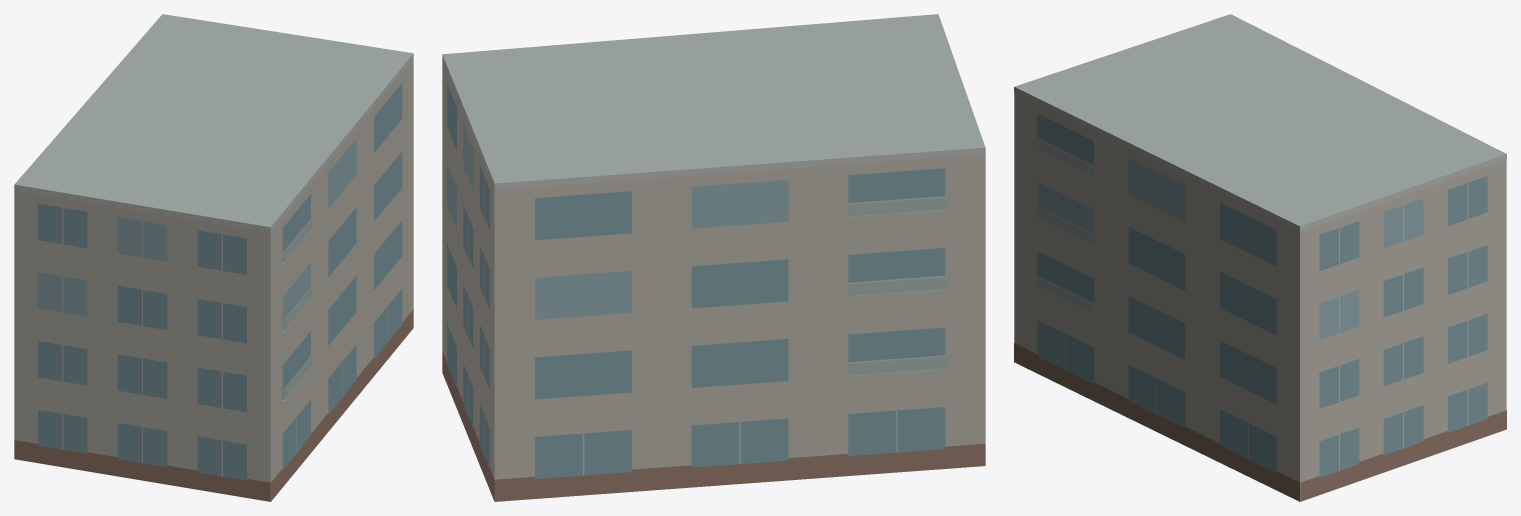
Rendered from survey-upis-32779660.glb.
The picture shows the model from 3 angles, left to right: view 1: azimuth 30°, elevation 25°; view 2: azimuth 150°, elevation 25°; view 3: azimuth 270°, elevation 25°; orthographic projection. The views are drawn at different scales.
Visible parts, largest first — view 1: survey-upis-32779660.tmp; view 2: survey-upis-32779660.tmp; view 3: survey-upis-32779660.tmp.
Part boxes in pixels (bbox=[...]): survey-upis-32779660.tmp: bbox=[14, 14, 413, 501]; survey-upis-32779660.tmp: bbox=[442, 14, 985, 501]; survey-upis-32779660.tmp: bbox=[1014, 14, 1506, 501].
Bounding box in the file's own units: 19.36 × 11.7 × 18.97.
